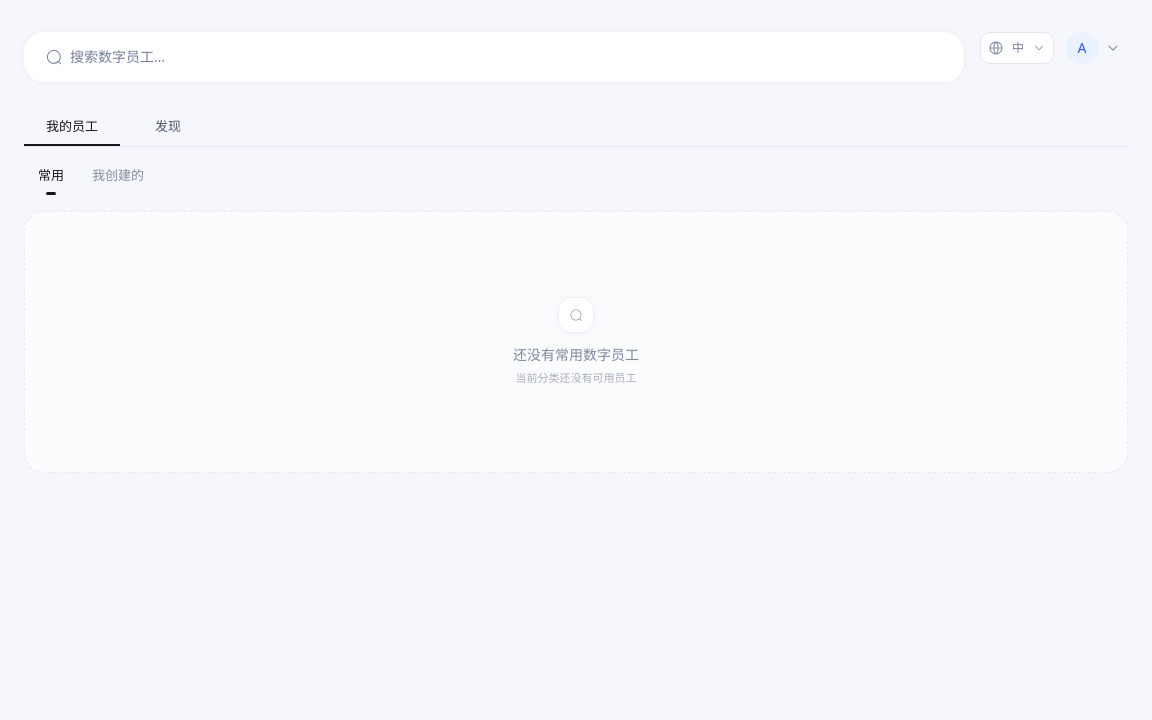
Test case: clears expert category and keyword filters from the empty state
Click the tab "发现". click: click(168, 128)
box: [120, 110, 216, 146]
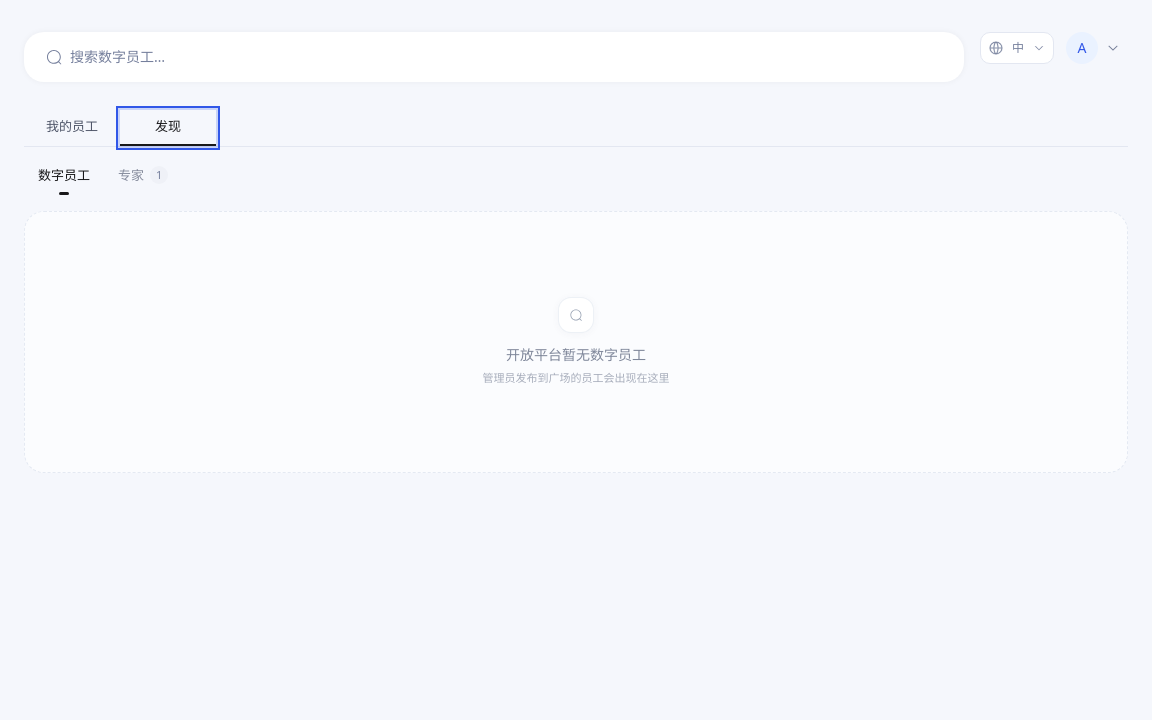
Click the tab "专家 1". click: click(143, 174)
box: [104, 158, 182, 190]
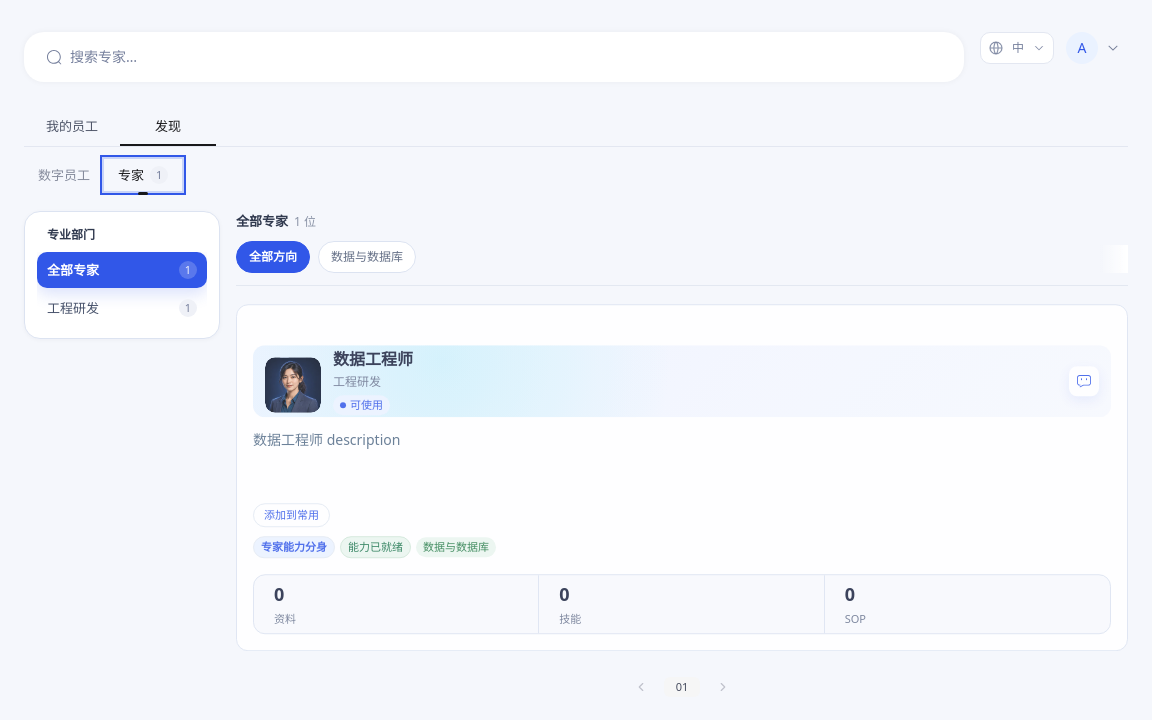
Expected: the text "数据工程师" is shown, [333, 348, 413, 370]
Click the button with aria-label "工程研发，1 位". click: click(122, 308)
box: [37, 290, 207, 326]
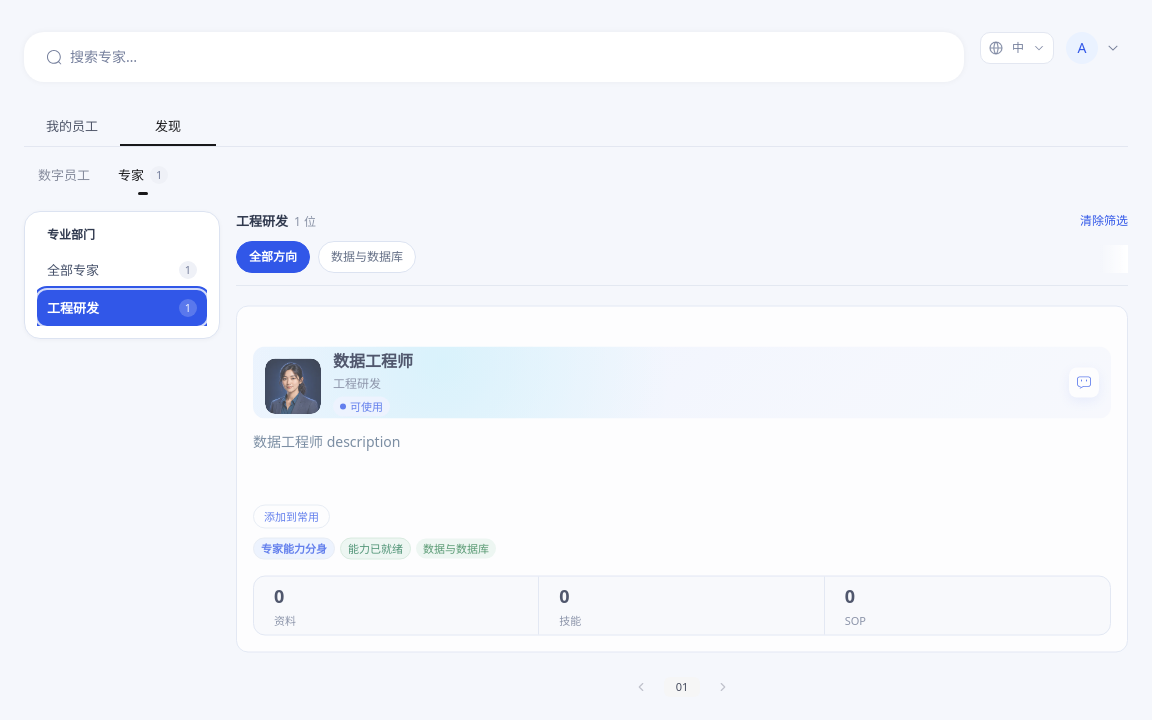
Type "不存在" into the field labelled "搜索专家". click: (507, 57)
box: [70, 46, 944, 68]
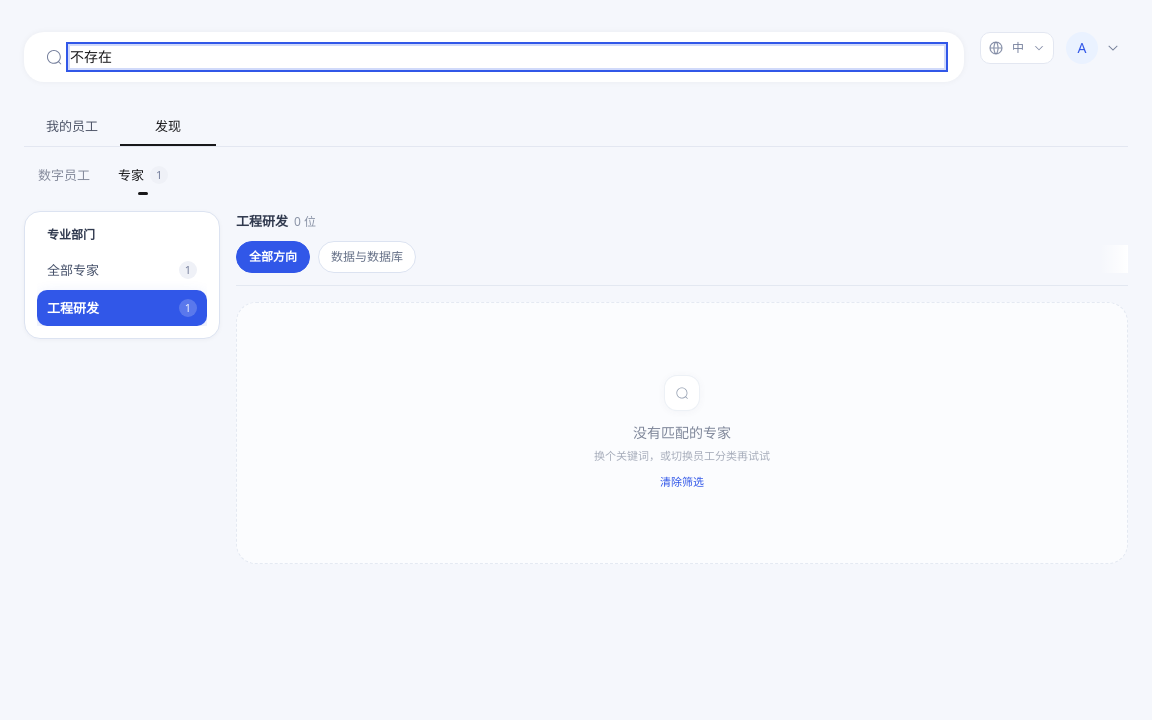
Expected: the text "没有匹配的专家" is shown, [633, 422, 731, 444]
Click the button "清除筛选". click: click(682, 482)
box: [660, 474, 704, 490]
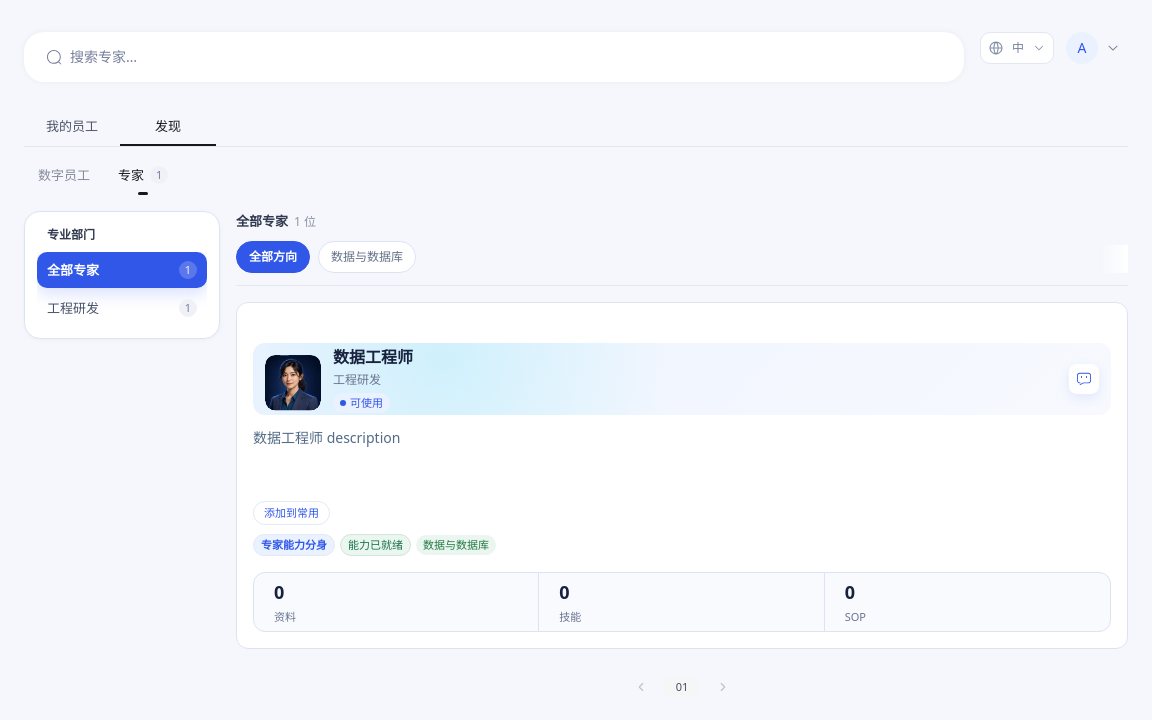
Expected: the text "数据工程师" is shown, [333, 346, 413, 368]
Expected: the field labelled "搜索专家" is empty, [70, 46, 944, 68]
